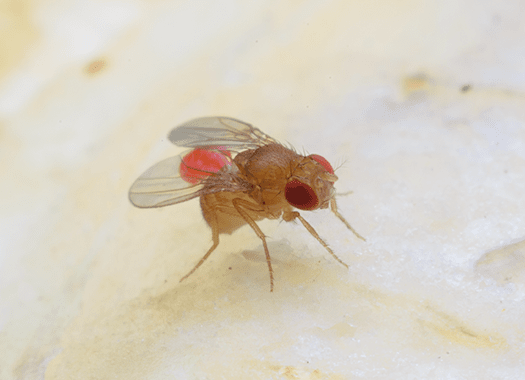phorid fly: (116, 103, 375, 308)
